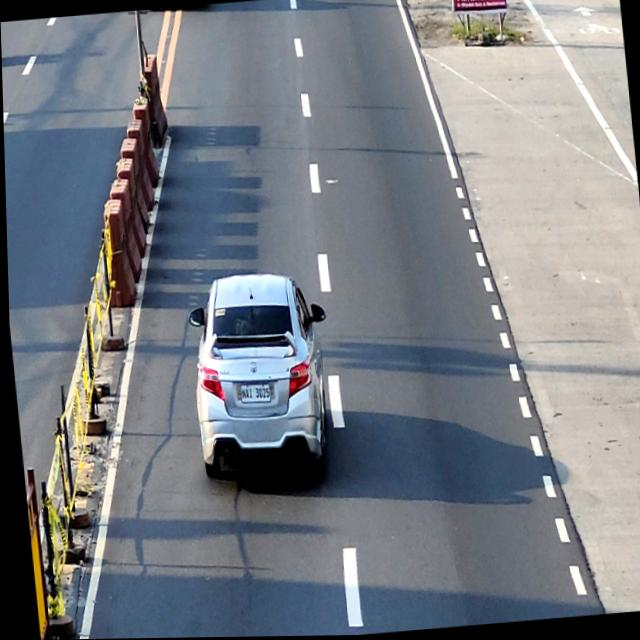Car: (182, 267, 339, 487)
License-Plate: (236, 381, 268, 405)
